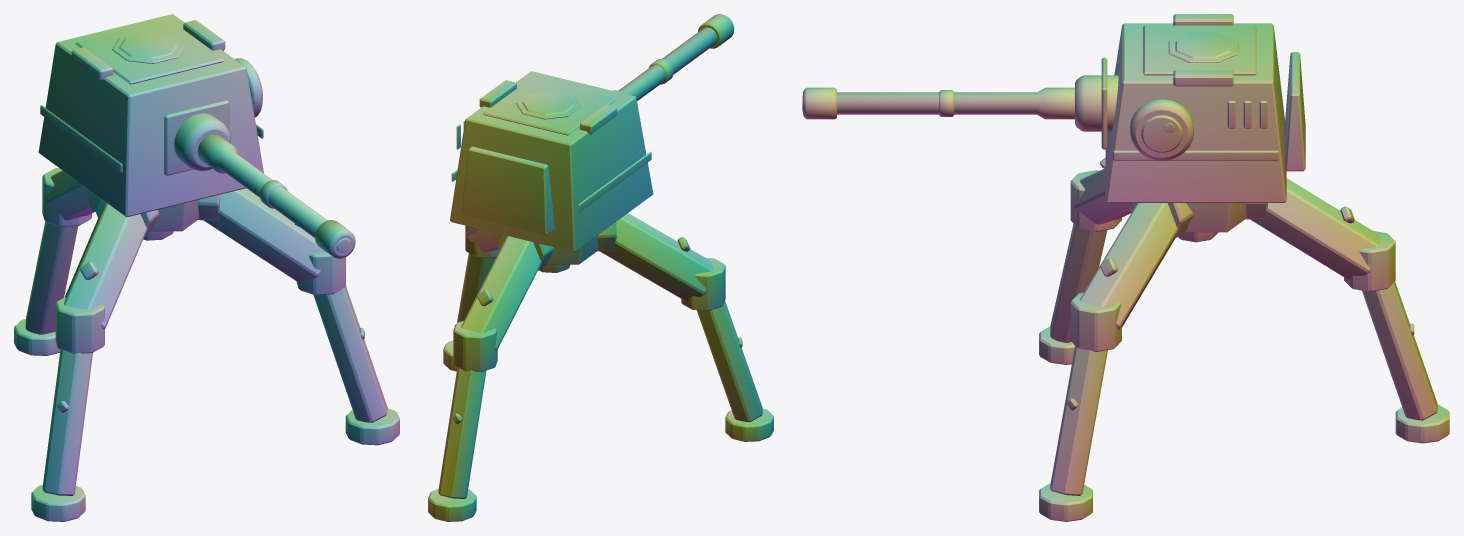
Rendered from longleg_rig.glb.
3 renders of one model, left to right at view 1: azimuth 30°, elevation 25°; view 2: azimuth 150°, elevation 25°; view 3: azimuth 270°, elevation 25°, orthographic. The views are drawn at different scales.
Parts seen in each view (by area): view 1: turret, tshin_1, tshin_0, barrel, tleg_0, tleg_1, tshin_2, tleg_2, body; view 2: turret, tshin_2, tshin_1, tleg_1, tleg_2, barrel, tshin_0, body, tleg_0; view 3: turret, barrel, tshin_0, tshin_2, tleg_0, tleg_2, tshin_1, body, tleg_1.
Part boxes in pixels (left/top/right/bottom): turret: left=38, top=14, right=263, bottom=217; tshin_1: left=31, top=297, right=104, bottom=521; tshin_0: left=296, top=252, right=399, bottom=445; barrel: left=174, top=107, right=355, bottom=258; tleg_0: left=198, top=188, right=325, bottom=282; tleg_1: left=64, top=198, right=158, bottom=329; tshin_2: left=14, top=168, right=91, bottom=355; tleg_2: left=44, top=170, right=94, bottom=220; body: left=86, top=188, right=199, bottom=240; turret: left=450, top=71, right=653, bottom=251; tshin_2: left=428, top=321, right=497, bottom=521; tshin_1: left=681, top=258, right=773, bottom=441; tleg_1: left=597, top=213, right=713, bottom=301; tleg_2: left=461, top=234, right=553, bottom=351; barrel: left=613, top=14, right=734, bottom=100; tshin_0: left=443, top=225, right=499, bottom=371; body: left=494, top=232, right=598, bottom=272; tleg_0: left=466, top=227, right=498, bottom=252; turret: left=1101, top=14, right=1305, bottom=202; barrel: left=802, top=75, right=1118, bottom=131; tshin_0: left=1039, top=292, right=1121, bottom=521; tshin_2: left=1344, top=231, right=1449, bottom=443; tleg_0: left=1079, top=203, right=1193, bottom=329; tleg_2: left=1245, top=178, right=1379, bottom=279; tshin_1: left=1039, top=170, right=1121, bottom=364; body: left=1178, top=203, right=1246, bottom=242; tleg_1: left=1074, top=157, right=1131, bottom=224.
Bounding box in the file's own units: 11.3 × 11.32 × 17.13.
